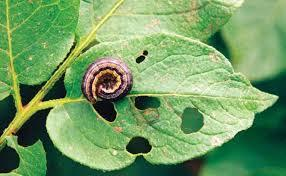fallarmy_worm: (77, 56, 135, 108)
